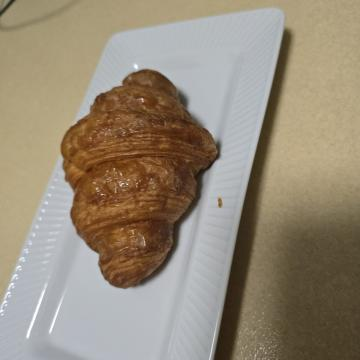croissant: (59, 135, 306, 312)
